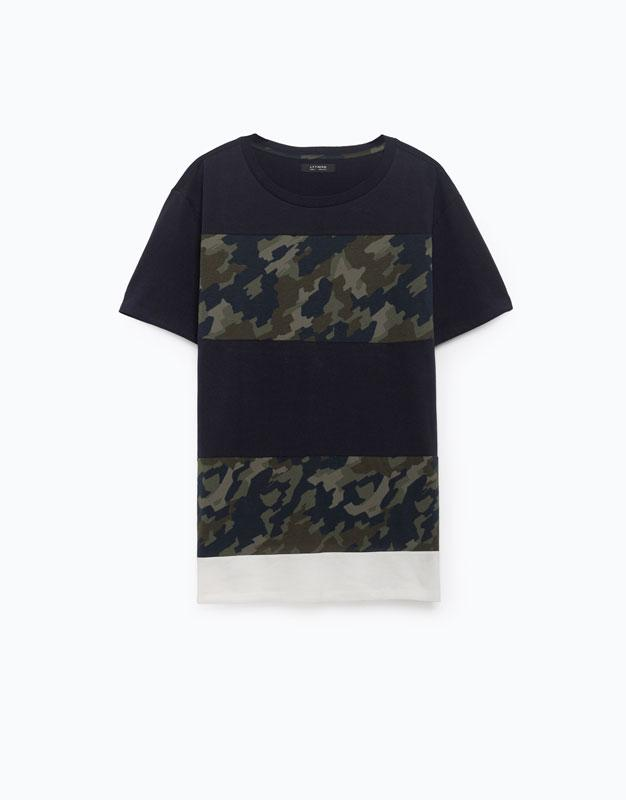teeshirt: (102, 129, 545, 661)
